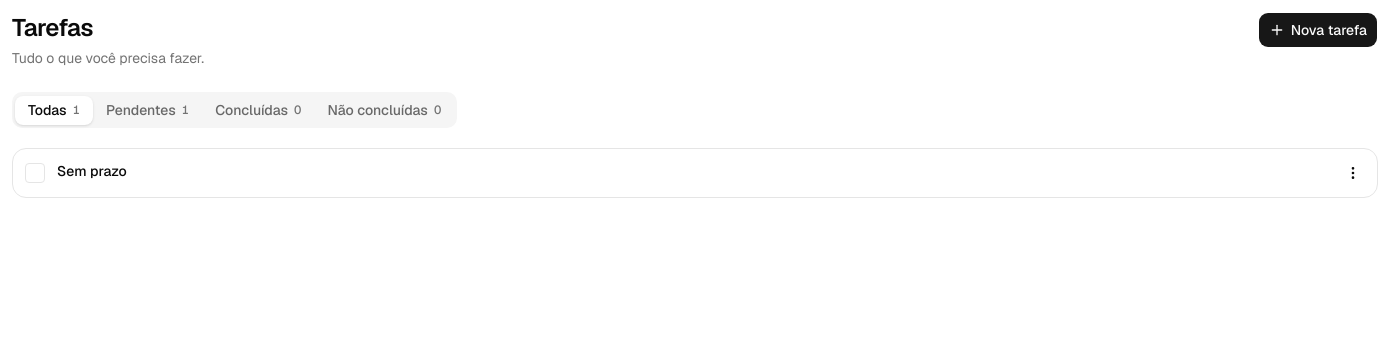
Test: TasksView list › explains an empty filter
Click the tab "Concluídas 0" at (258, 110), box [202, 96, 314, 124]
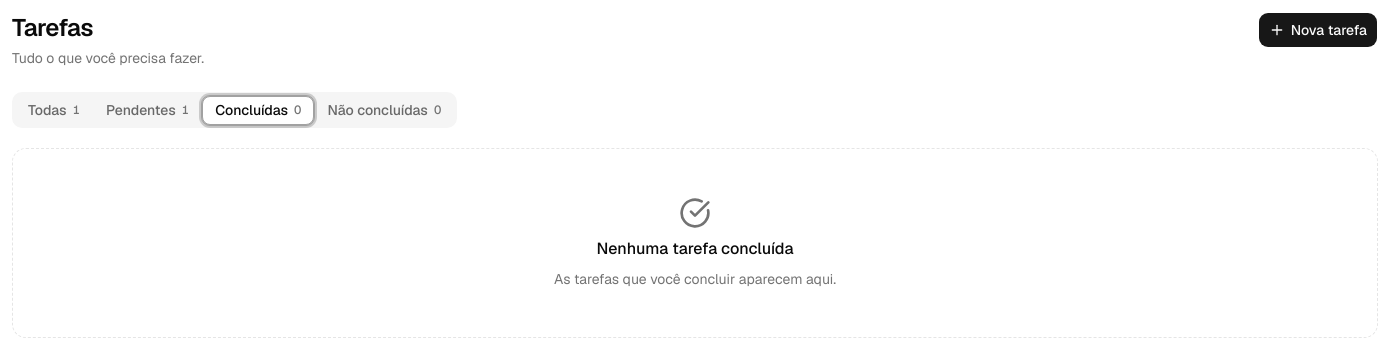
Expected: the text "Nenhuma tarefa concluída" is shown, [596, 237, 793, 261]
